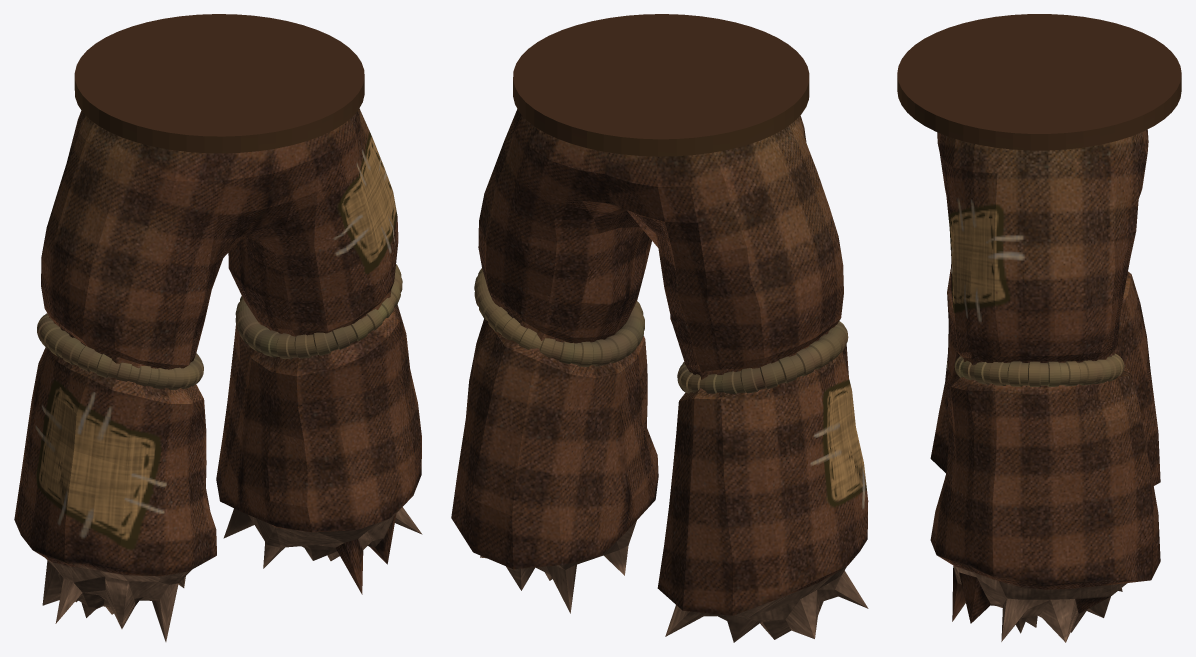
The model's file is DummyBottom.glb.
The picture shows the model from 3 angles, left to right: view 1: azimuth 30°, elevation 25°; view 2: azimuth 150°, elevation 25°; view 3: azimuth 270°, elevation 25°; orthographic projection. The views are drawn at different scales.
Visible parts, largest first — view 1: RetopoLegs, Cylinder.007, Torus.003; view 2: RetopoLegs, Cylinder.007, Torus.003; view 3: RetopoLegs, Cylinder.007, Torus.003.
Part boxes in pixels (x1=…): RetopoLegs: x1=14, y1=108, x2=422, y2=641; Cylinder.007: x1=74, y1=14, x2=364, y2=153; Torus.003: x1=37, y1=264, x2=402, y2=389; RetopoLegs: x1=451, y1=109, x2=868, y2=642; Cylinder.007: x1=513, y1=14, x2=809, y2=156; Torus.003: x1=474, y1=268, x2=848, y2=393; RetopoLegs: x1=930, y1=129, x2=1160, y2=642; Cylinder.007: x1=897, y1=14, x2=1181, y2=150; Torus.003: x1=954, y1=353, x2=1124, y2=386.
Bounding box in the file's own units: 0.5311 × 0.7024 × 0.3609.
Materials: 1 (1 with a texture image).
